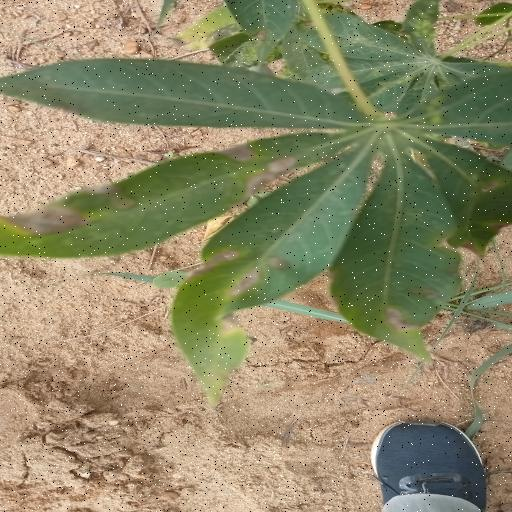Cassava_Brown_Leaf_Spot: (0, 44, 512, 411)
